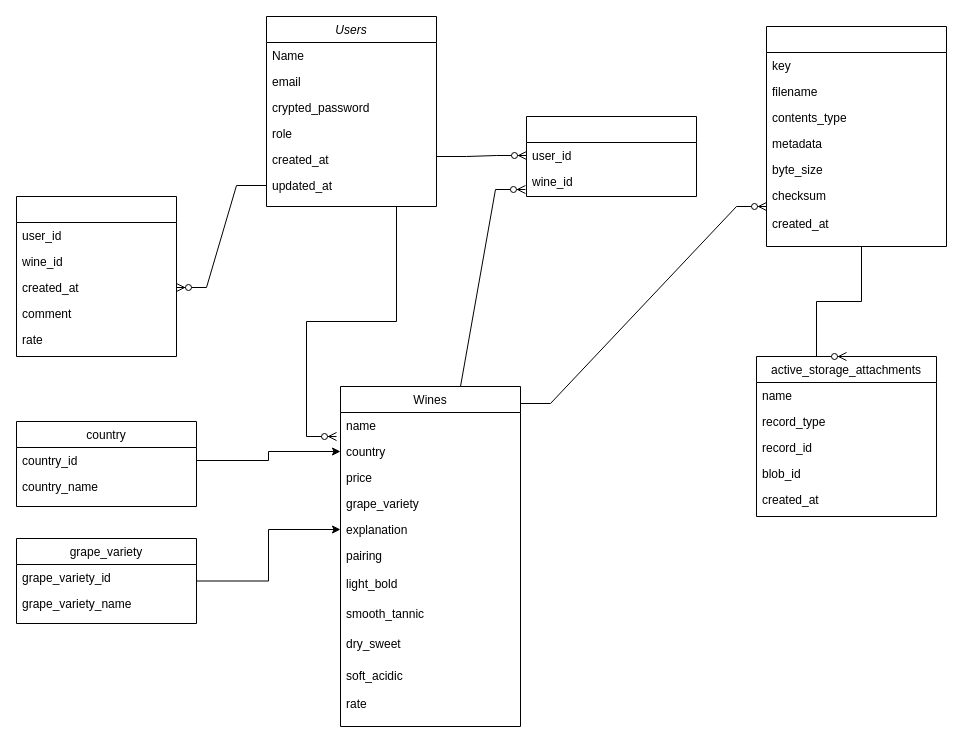
Some shapes in this 963 by 743 pixel diagram are drawn without their labels. The shapes that lost their labels are listed below. From the top down, each one's box as (x1, y1, x2, y2) in pixels, then its label:
(526, 116, 696, 196): Bookmarks
(766, 26, 946, 246): active_storrage_blobs
(16, 196, 176, 356): Reviews
